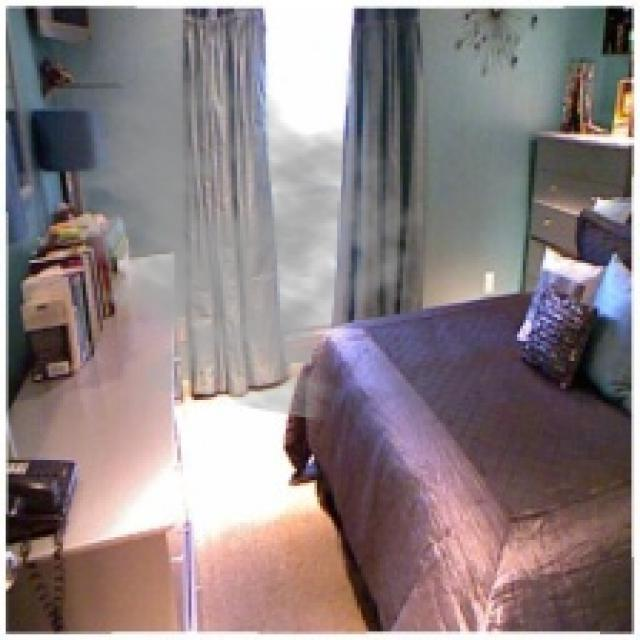Smoke: (34, 63, 434, 423)
